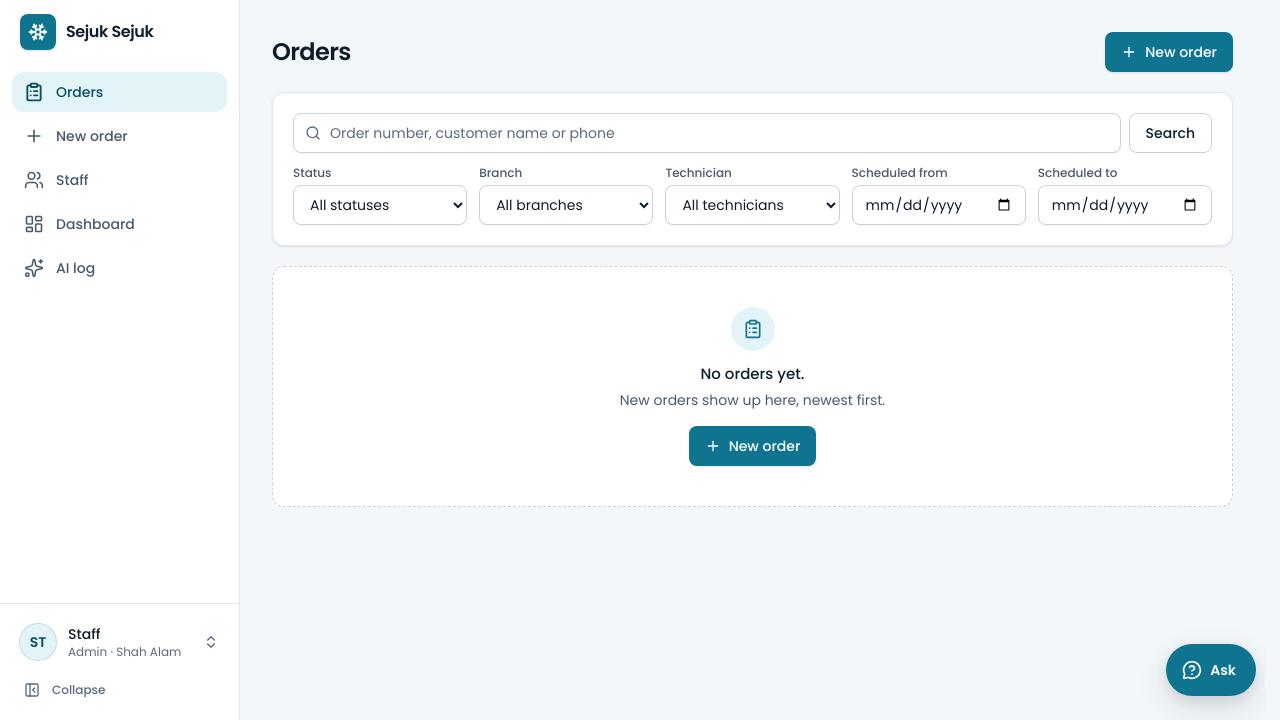
it: Admin portal is for Admins only (AC1) › an Admin lands on the order list and can open the new order form
Expected: the heading "Orders" is shown, [272,36,351,68]
Expected: the text "No orders yet." is shown, [700,363,804,386]
Click the link "New order" below "Sejuk Sejuk" at (76, 136), box [24,126,128,146]
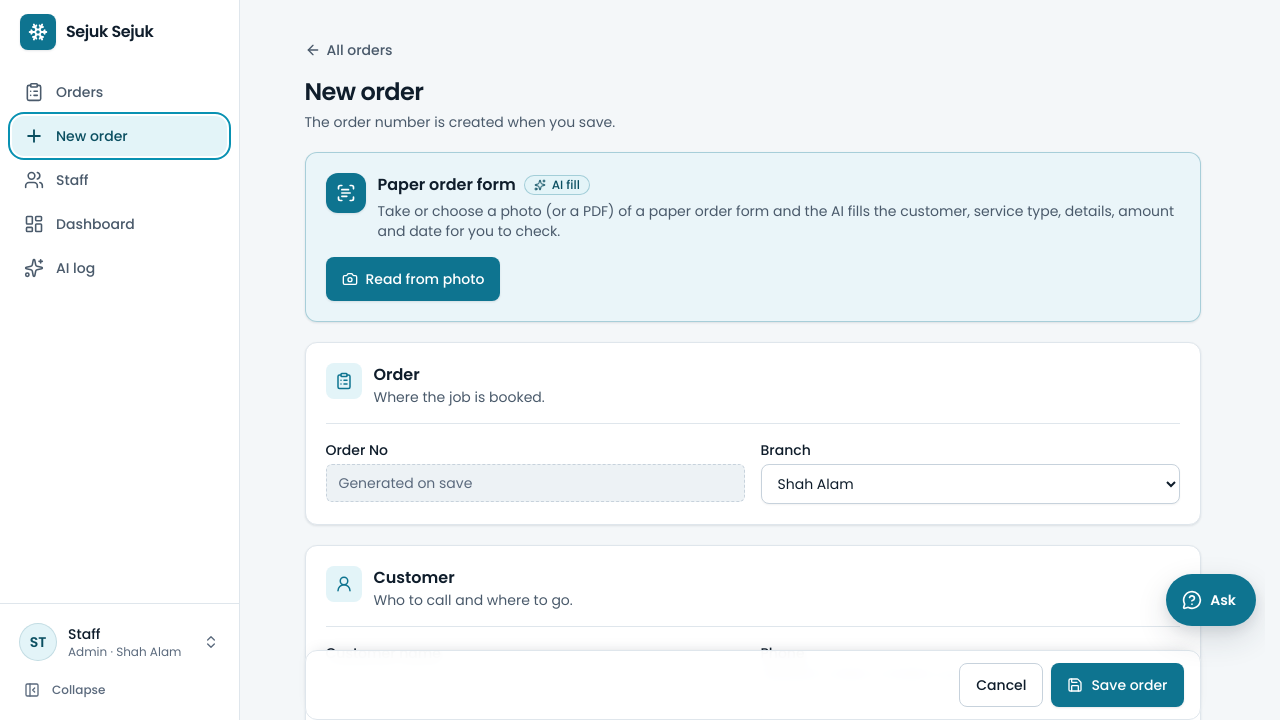
Expected: the heading "New order" is shown, [304,75,423,108]
